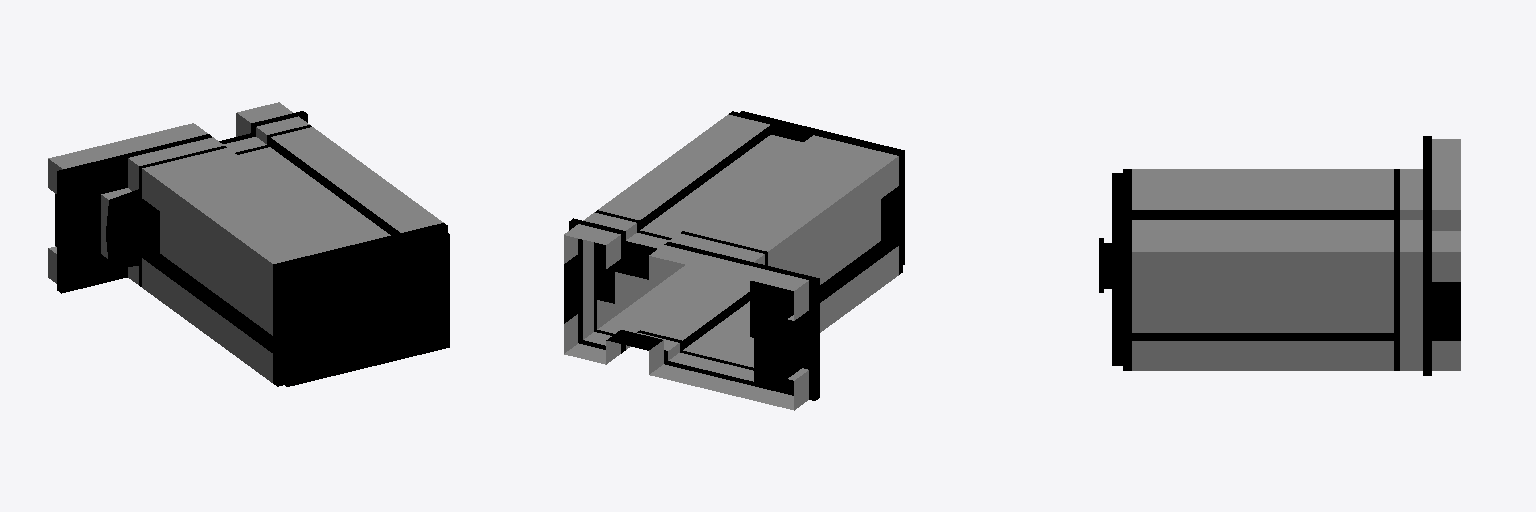
Rendered from skyscraper_windowC_04.obj.
The picture shows the model from 3 angles: view 1: azimuth 30°, elevation 25°; view 2: azimuth 150°, elevation 25°; view 3: azimuth 270°, elevation 25°; orthographic projection.
Visible parts, largest first — view 1: Object60; view 2: Object60; view 3: Object60.
Part boxes in pixels (x1,y1,x2,y2): Object60: (48,102,449,386); Object60: (564,111,904,410); Object60: (1099,136,1460,375).
Size of the model in its own units: 67.76 by 31.37 by 86.35.